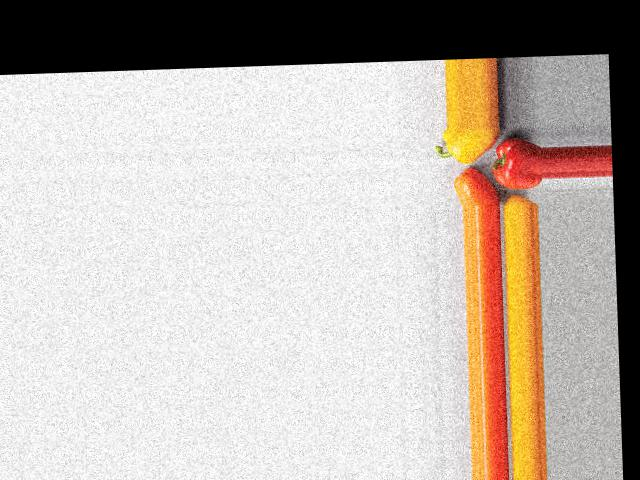bell_pepper: (492, 133, 541, 189)
